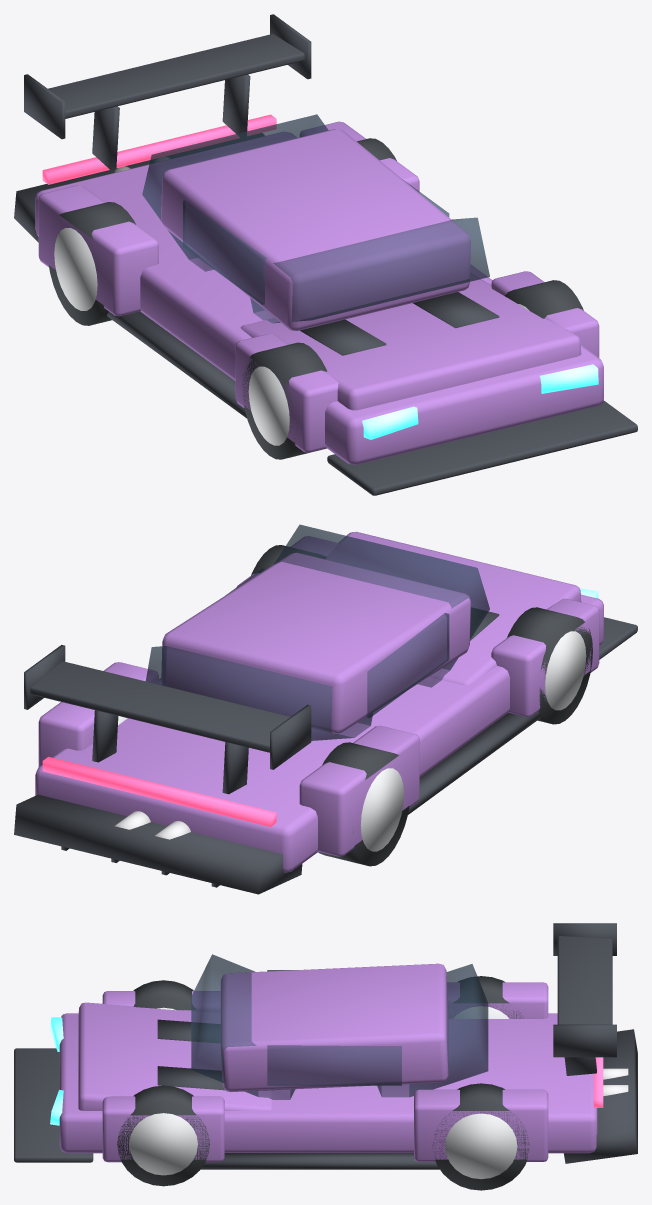
File: venom.glb
The picture shows the model from 3 angles, top to bottom: view 1: azimuth 30°, elevation 25°; view 2: azimuth 150°, elevation 25°; view 3: azimuth 270°, elevation 25°; orthographic projection. The views are drawn at different scales.
Parts seen in each view (by area): view 1: Chassis_Cabin, Chassis_Lower, Chassis_Hood, Window_Windshield, Carbon_FrontSplitter, Carbon_WingBlade, Fender_RL, Fender_FL, Window_Rear, Window_Side_L, Carbon_SideSkirt_L, Light_Tail_Blade (+16 smaller); view 2: Chassis_Cabin, Chassis_Lower, Carbon_RearDiffuser, Chassis_Hood, Carbon_WingBlade, Window_Windshield, Window_Rear, Fender_RL, Fender_FL, Window_Side_L, Light_Tail_Blade, FL_Tire (+13 smaller); view 3: Chassis_Cabin, Chassis_Lower, Chassis_Hood, Window_Windshield, Fender_RR, Window_Side_R, Carbon_FrontSplitter, Window_Rear, Carbon_WingBlade, Carbon_RearDiffuser, Fender_FR, RR_Wheel_Rim (+15 smaller).
Part boxes in pixels (x1,y1,x2,y2): Chassis_Cabin: (161, 129, 470, 330); Chassis_Lower: (35, 132, 603, 464); Chassis_Hood: (240, 273, 581, 410); Window_Windshield: (250, 217, 489, 323); Carbon_FrontSplitter: (327, 400, 637, 495); Carbon_WingBlade: (48, 34, 304, 118); Fender_RL: (38, 185, 158, 316); Fender_FL: (235, 333, 338, 452); Window_Rear: (142, 114, 328, 271); Window_Side_L: (183, 200, 266, 304); Carbon_SideSkirt_L: (107, 311, 246, 418); Light_Tail_Blade: (42, 114, 276, 184); Chassis_Cabin: (161, 553, 470, 733); Chassis_Lower: (35, 594, 603, 872); Carbon_RearDiffuser: (14, 794, 302, 894); Chassis_Hood: (326, 531, 581, 685); Carbon_WingBlade: (30, 661, 290, 752); Window_Windshield: (274, 524, 489, 687); Window_Rear: (145, 646, 372, 740); Fender_RL: (299, 725, 419, 856); Fender_FL: (491, 598, 599, 717); Window_Side_L: (365, 613, 449, 717); Light_Tail_Blade: (42, 756, 276, 826); FL_Tire: (507, 607, 592, 724); Chassis_Cabin: (220, 963, 448, 1092); Chassis_Lower: (59, 1013, 597, 1153); Chassis_Hood: (78, 1002, 272, 1110); Window_Windshield: (191, 954, 295, 1099); Fender_RR: (414, 1089, 548, 1161); Window_Side_R: (267, 1045, 401, 1085); Carbon_FrontSplitter: (14, 1048, 93, 1162); Window_Rear: (377, 964, 488, 1097); Carbon_WingBlade: (557, 936, 612, 1024); Carbon_RearDiffuser: (564, 1029, 637, 1163); Fender_FR: (102, 1096, 224, 1162); RR_Wheel_Rim: (445, 1113, 517, 1179).
Bounding box in the file's own units: 2.45 × 1.38 × 5.11.
